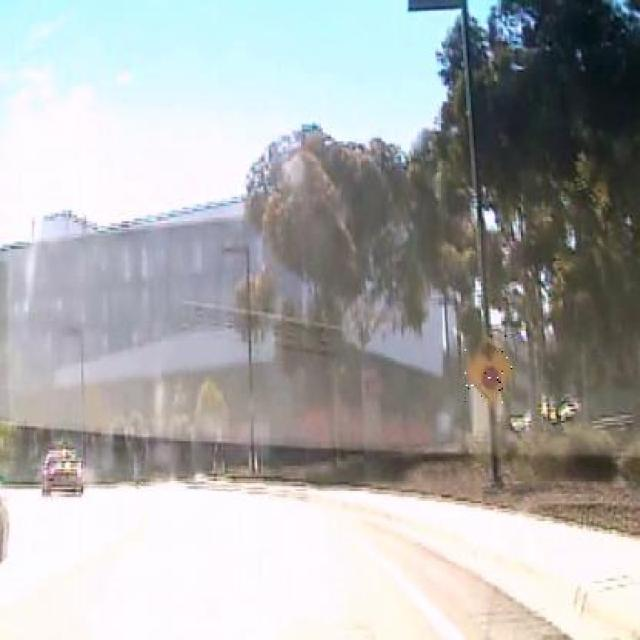stopAhead: (464, 336, 514, 406)
